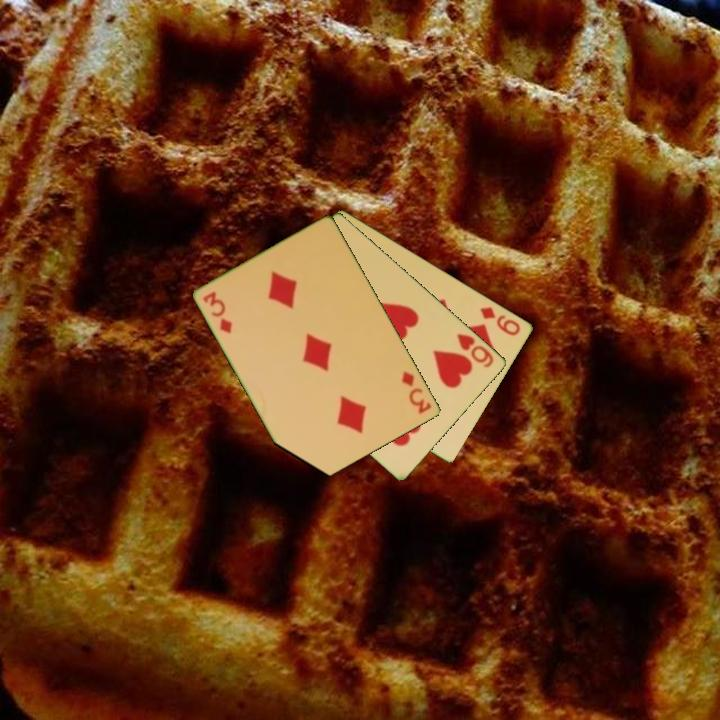3d: (398, 367, 435, 417), (200, 288, 236, 336)
6h: (454, 330, 497, 370)
9d: (477, 303, 524, 339)
